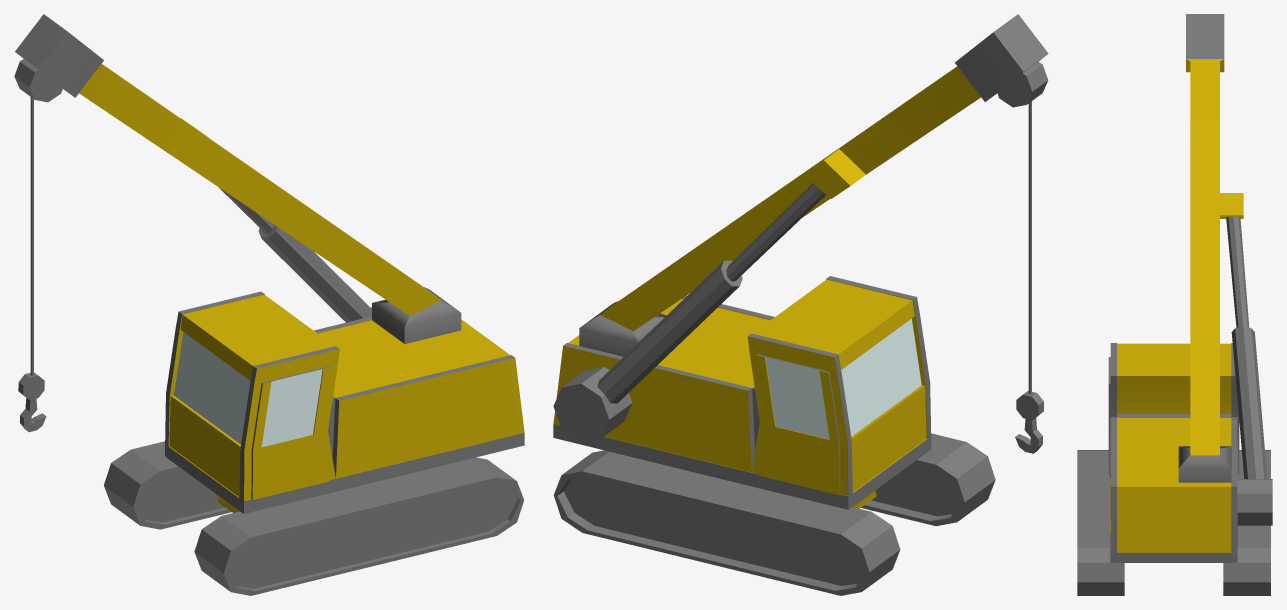
Rendered from Crane.fbx.
The picture shows the model from 3 angles, left to right: view 1: azimuth 30°, elevation 25°; view 2: azimuth 150°, elevation 25°; view 3: azimuth 270°, elevation 25°; orthographic projection. The views are drawn at different scales.
Visible parts, largest first — view 1: pCube4; view 2: pCube4; view 3: pCube4.
Part boxes in pixels (x1,y1,x2,y2): pCube4: (14, 14, 524, 595); pCube4: (553, 14, 1048, 595); pCube4: (1077, 14, 1272, 595).
Size of the model in its own units: 22.68 by 26.47 by 10.7.
